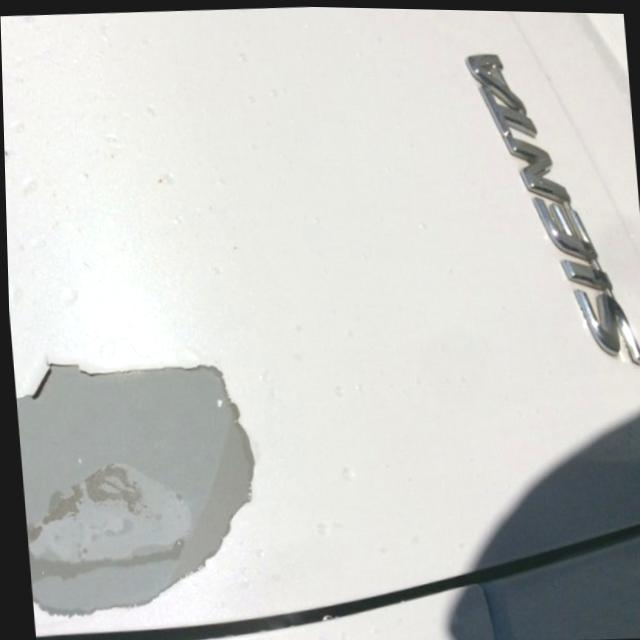Paint-fading: (12, 349, 270, 621)
